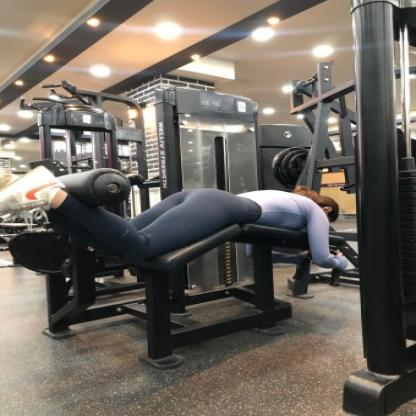reg curl machine: (0, 82, 357, 372)
